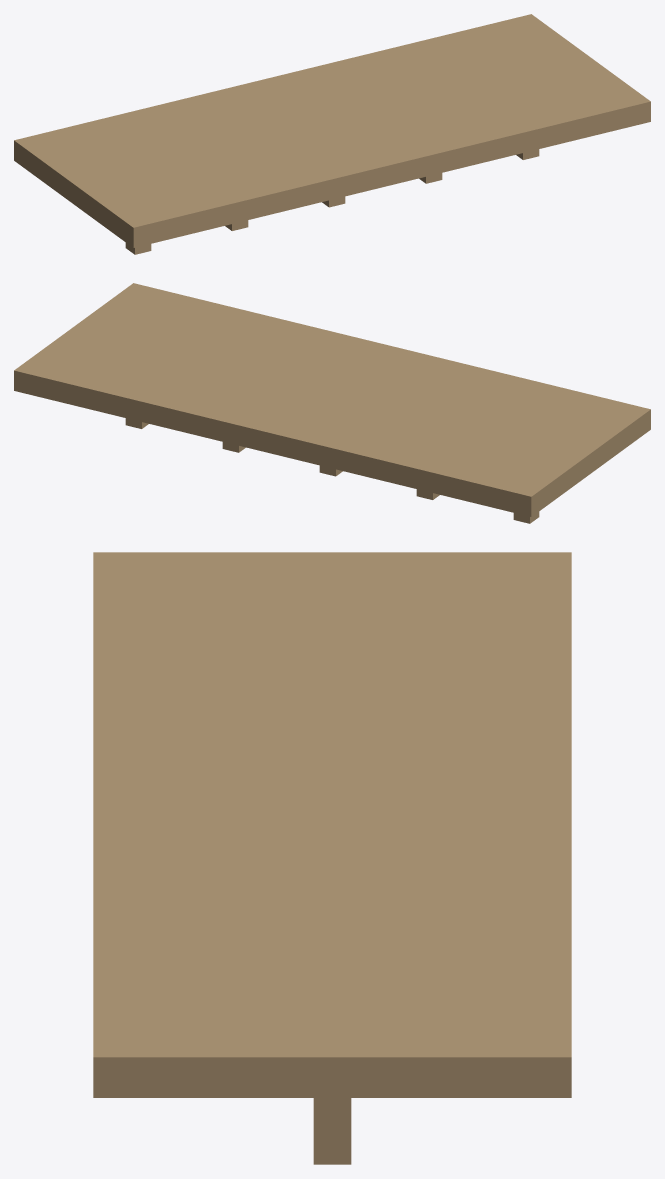
Rendered from dock.glb.
3 views of the same model, one above another, from view 1: azimuth 30°, elevation 25°; view 2: azimuth 150°, elevation 25°; view 3: azimuth 270°, elevation 25° (orthographic). The views are drawn at different scales.
Size of the model in its own units: 8 by 1.2 by 3.2.
